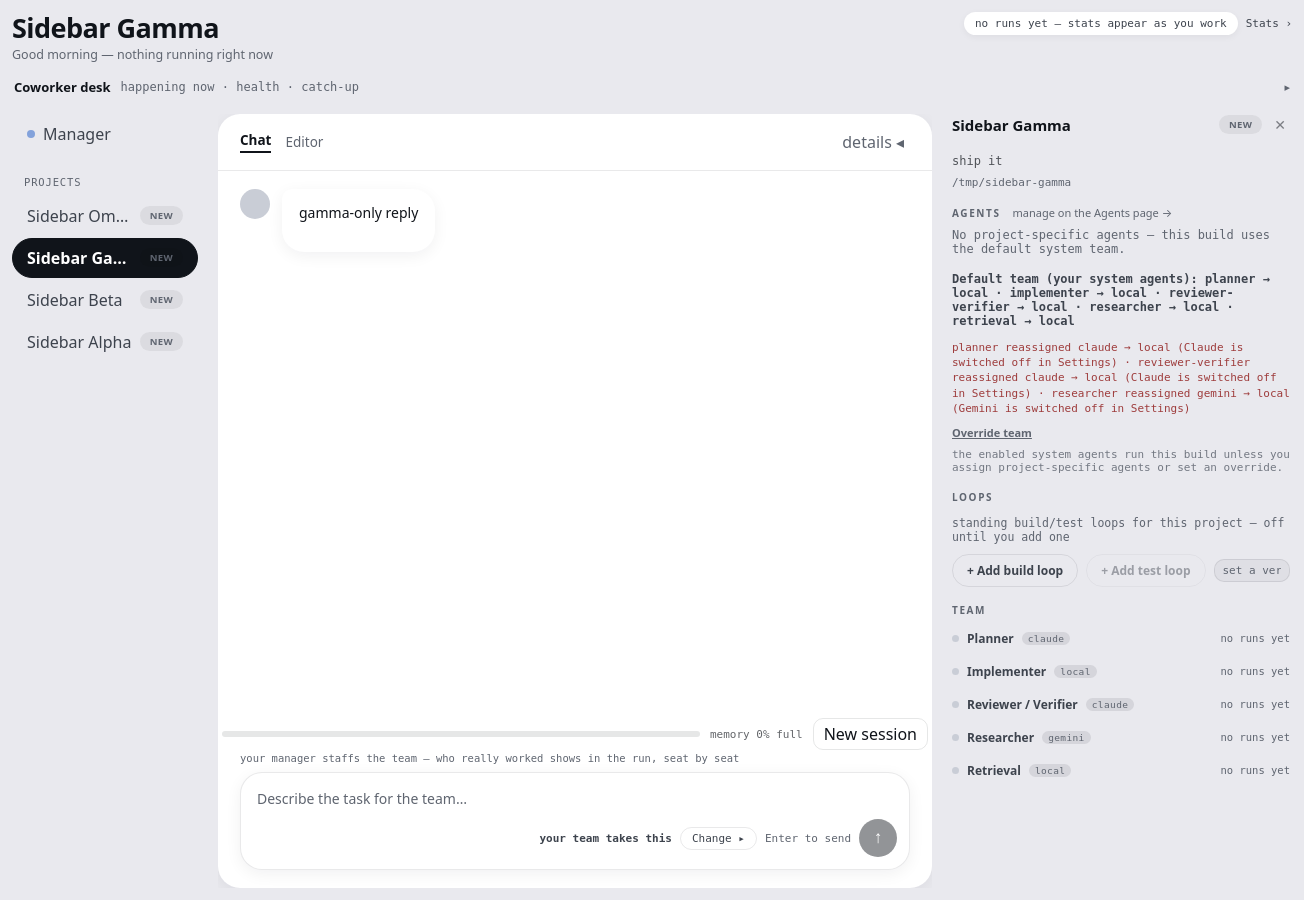
Test: Workspace left sidebar (Manager + projects) › clicking a project switches the active thread — its nav item goes active, Manager does not, and its own thread content replaces the previous one
Expected: the text "gamma-only reply" is shown, [299,202,418,222]
Expected: the text "omega-only reply" is not shown
Click the button "Sidebar Omega new": (105, 216) [12,196,198,236]
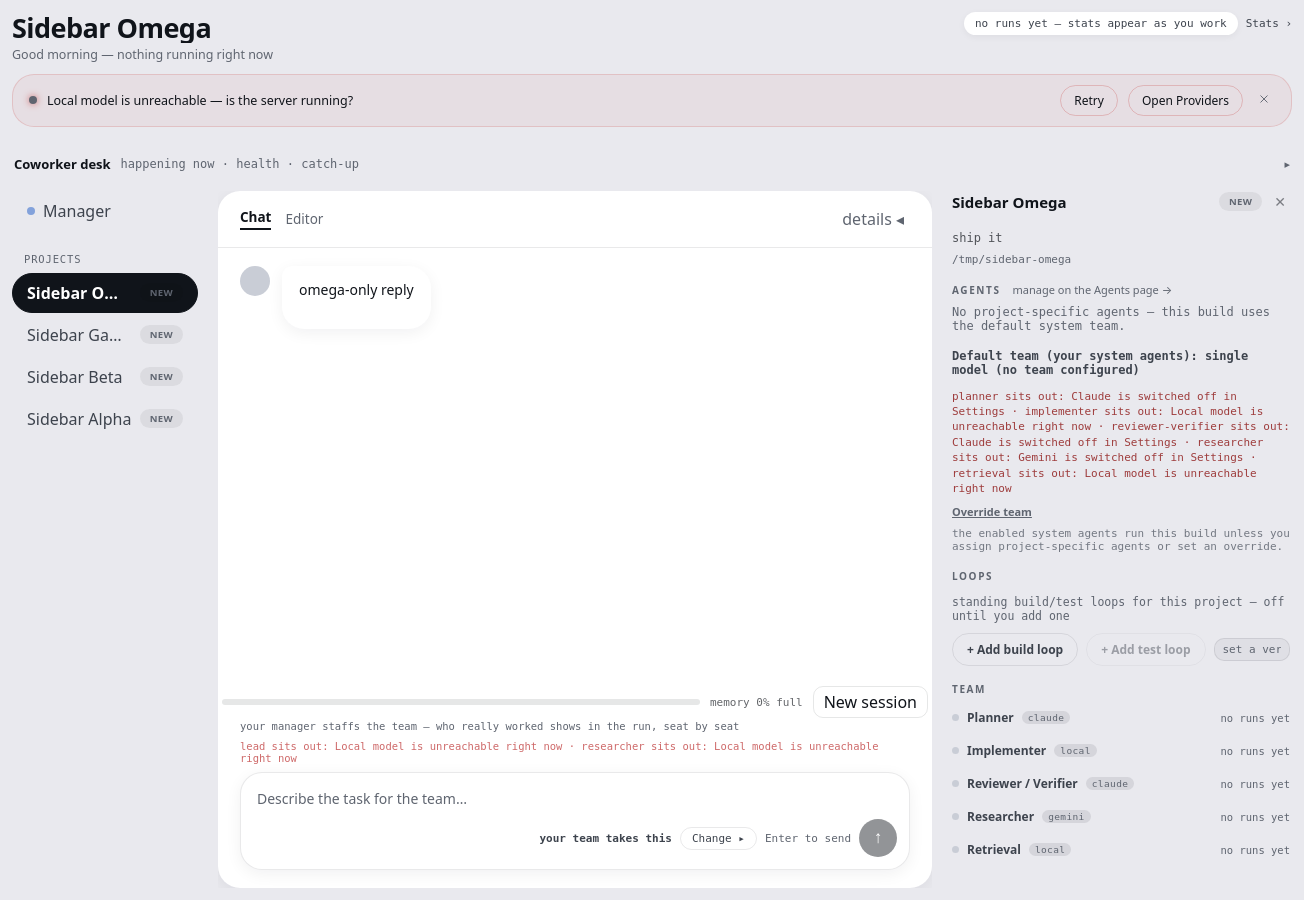
Now the text "omega-only reply" is shown, box [299,280,414,298]
Now the text "gamma-only reply" is gone
